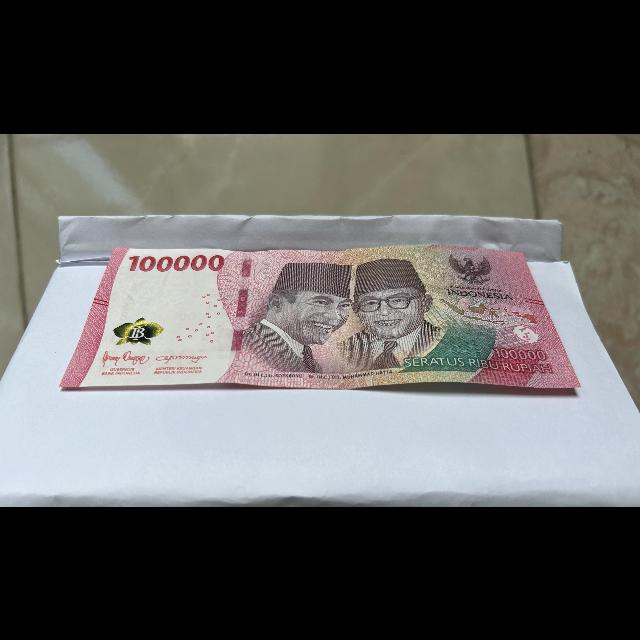Asli-100k: (53, 241, 589, 397)
Tinta-Asli-100k: (107, 315, 169, 347)
